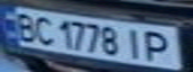1: (51, 17, 72, 50)
7: (81, 20, 103, 54), (66, 19, 87, 52)
8: (100, 24, 124, 57)
B: (9, 10, 42, 43)
C: (30, 13, 57, 46)
I: (121, 26, 148, 61)
P: (139, 28, 178, 64)
